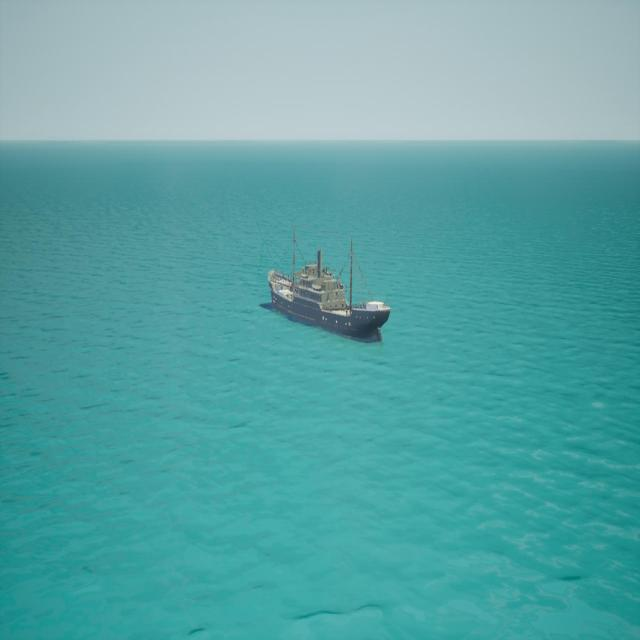fishing ship: (265, 228, 391, 344)
